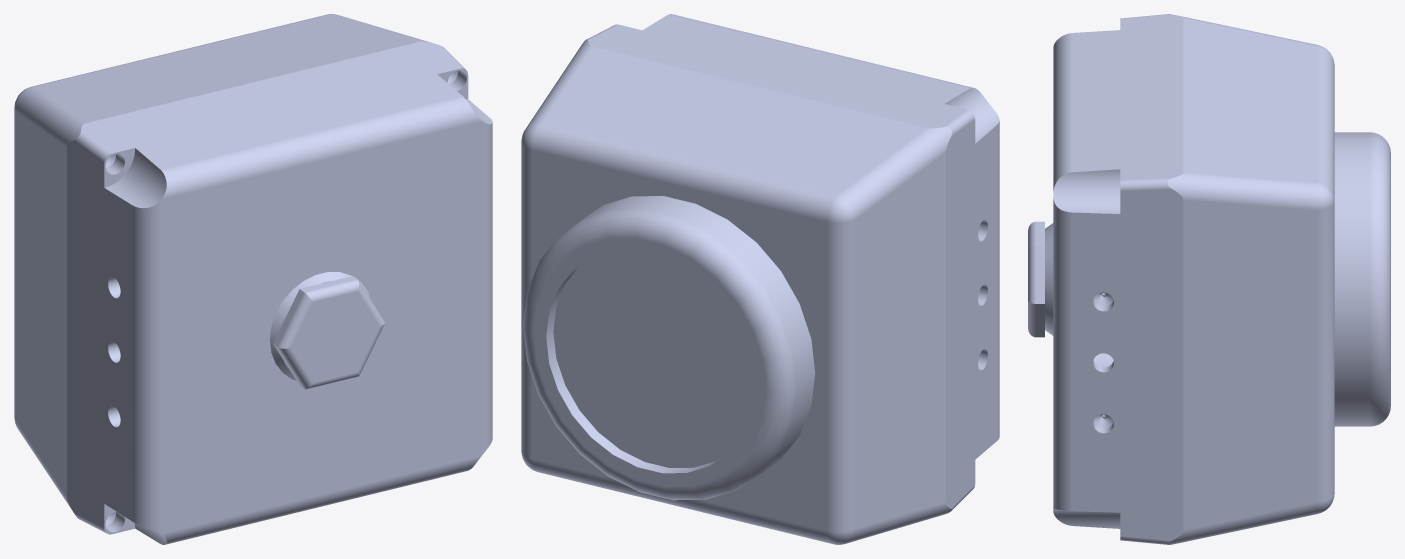
The model's file is chinese_camera_5.glb.
3 renders of one model, left to right at view 1: azimuth 30°, elevation 25°; view 2: azimuth 150°, elevation 25°; view 3: azimuth 270°, elevation 25°, orthographic. The views are drawn at different scales.
Visible parts, largest first — view 1: chinese camera v1; view 2: chinese camera v1; view 3: chinese camera v1.
Part boxes in pixels (x1,y1,x2,y2): chinese camera v1: (14, 14, 492, 544); chinese camera v1: (521, 14, 999, 544); chinese camera v1: (1028, 14, 1390, 544).
Bounding box in the file's own units: 0.0483 × 0.0483 × 0.0432.
